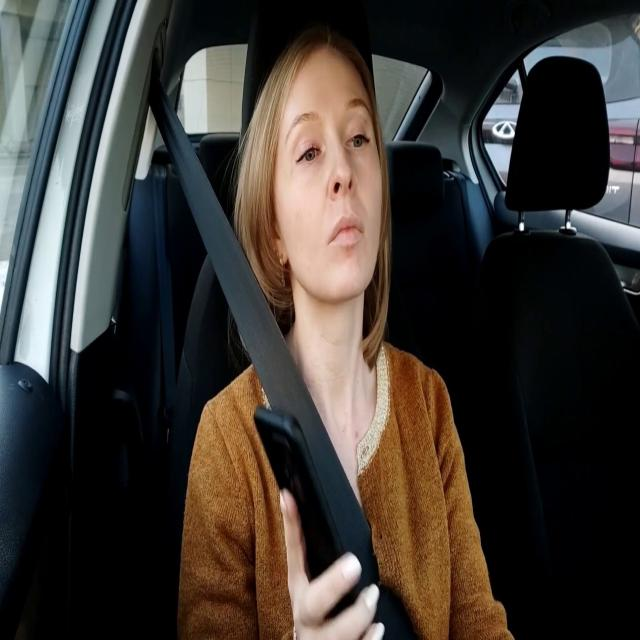phone: (252, 402, 362, 619)
